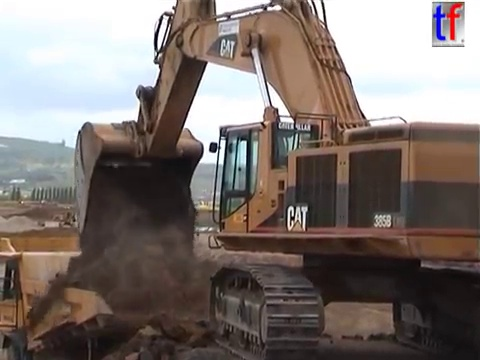excavator: (70, 1, 480, 360), (56, 211, 88, 233)
truck: (1, 232, 219, 360)
